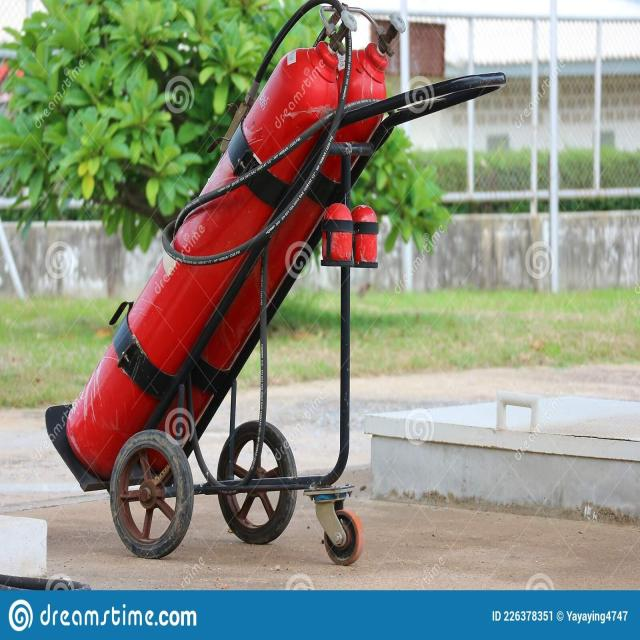fire_extinguisher: (61, 0, 362, 482), (108, 2, 410, 481)
